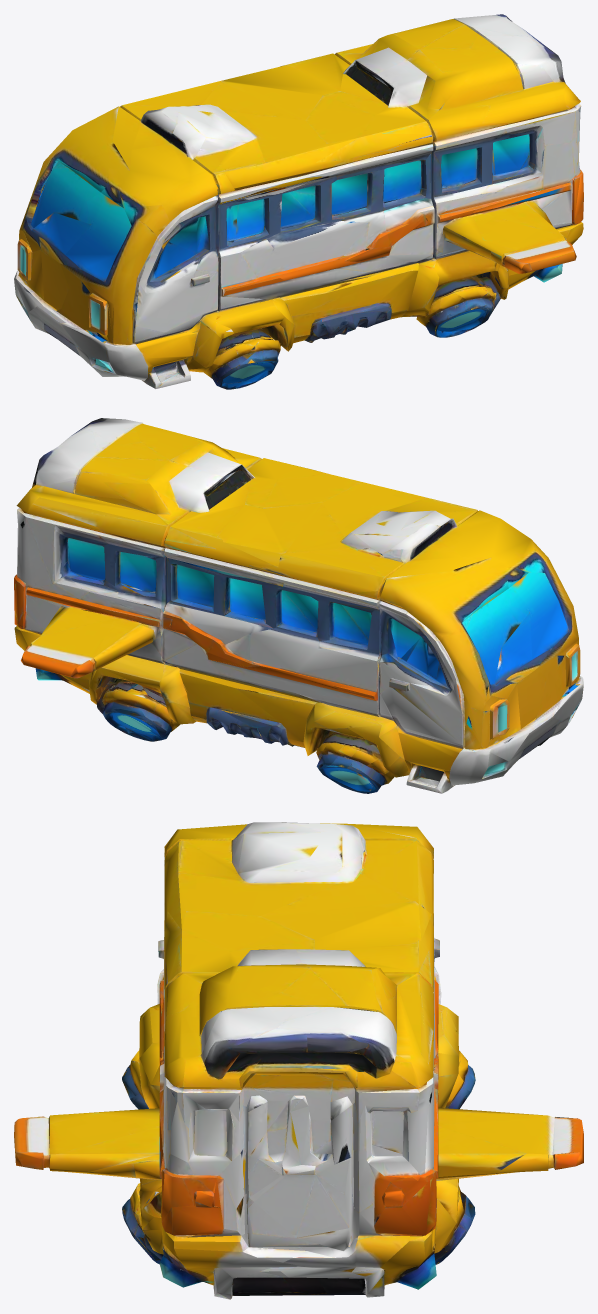
File: runner-transport-ai.glb
3 views of the same model, one above another, from view 1: azimuth 30°, elevation 25°; view 2: azimuth 150°, elevation 25°; view 3: azimuth 270°, elevation 25° (orthographic). The views are drawn at different scales.
Size of the model in its own units: 1.9 by 0.9017 by 1.52.
1 material, 1 textured.
